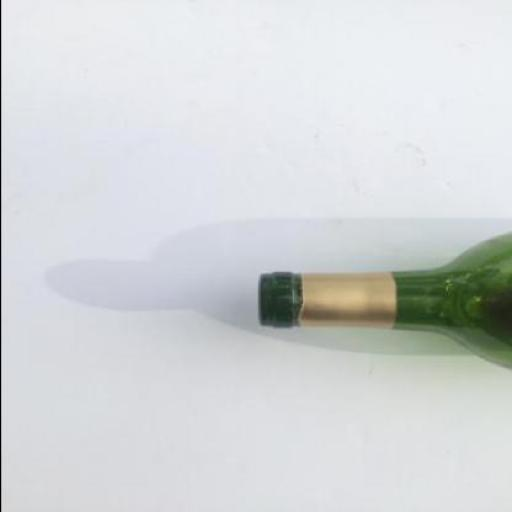glass: (254, 232, 510, 370)
